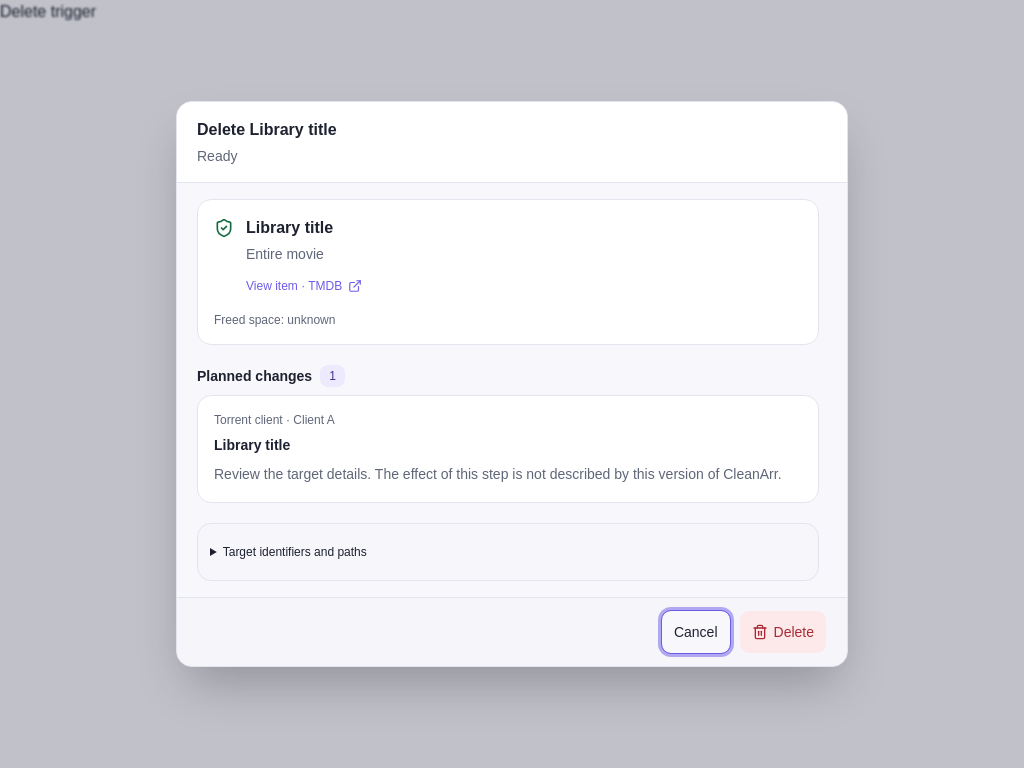
Scenario: DeleteConfirmationDialog › shows reviewable identifiers and paths but never dumps messages, URLs or confirmation secrets
Expected: the 1st text "Library title" is shown, [246,219,333,236]
Click the heading "Target identifiers and paths" at (295, 552), box [223,545,367,559]
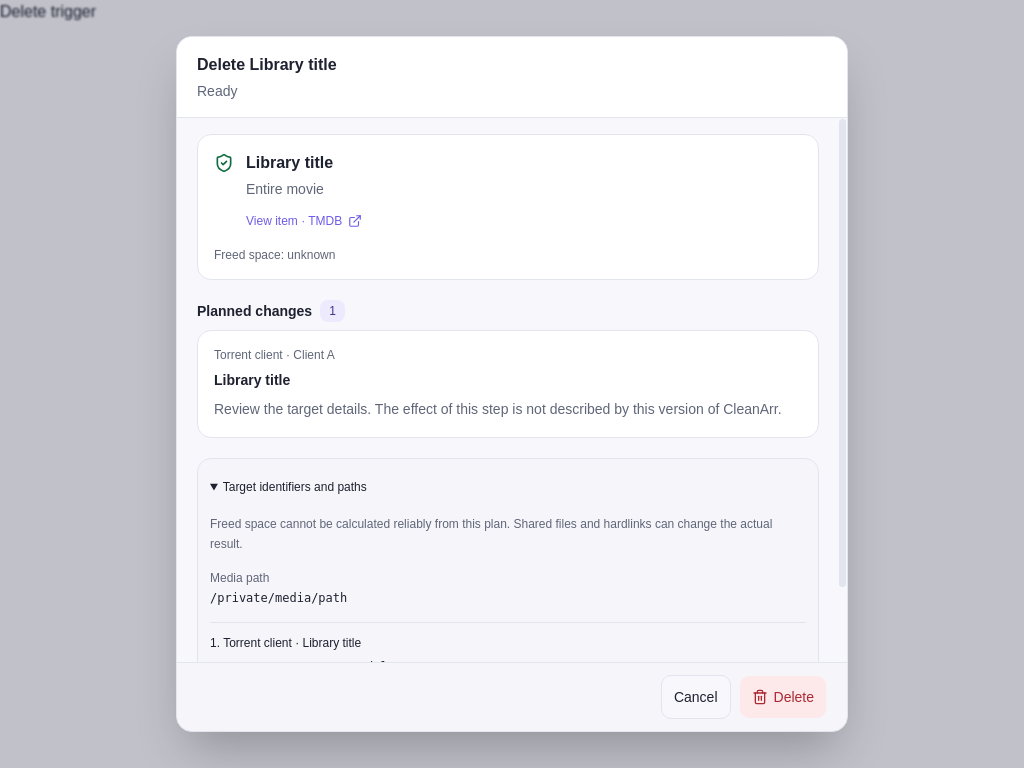
Result: the text "/private/media/path" is shown at [210,591,347,605]
